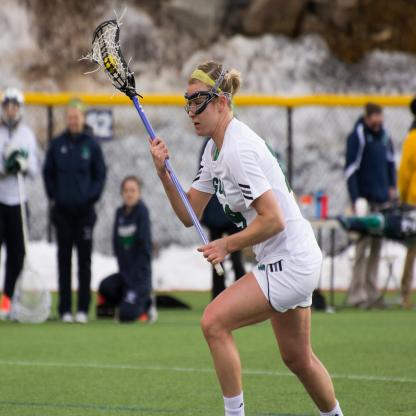Helmet: (0, 86, 21, 127)
